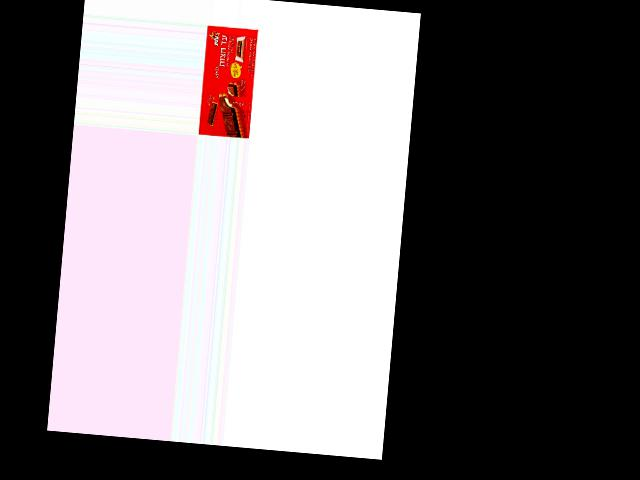chocolate: (197, 23, 259, 139)
